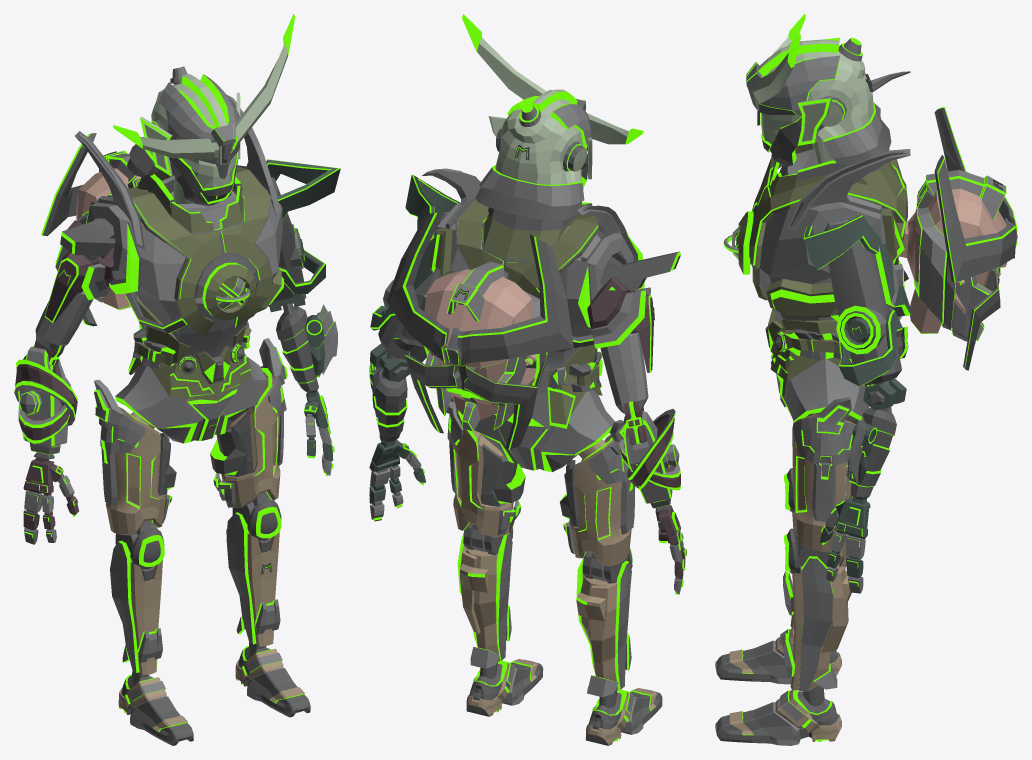
File: robot-AGI0013-idle.fbx
3 renders of one model, left to right at view 1: azimuth 30°, elevation 25°; view 2: azimuth 150°, elevation 25°; view 3: azimuth 270°, elevation 25°, orthographic. The views are drawn at different scales.
Visible parts, largest first — view 1: AGI13; view 2: AGI13; view 3: AGI13.
Boxes of the visible parts, left/top/right/bottom form: AGI13: left=14, top=14, right=340, bottom=745; AGI13: left=369, top=14, right=686, bottom=745; AGI13: left=715, top=14, right=1017, bottom=745.
Size of the model in its own units: 97.05 by 199 by 75.78.
1 material, 1 textured.
